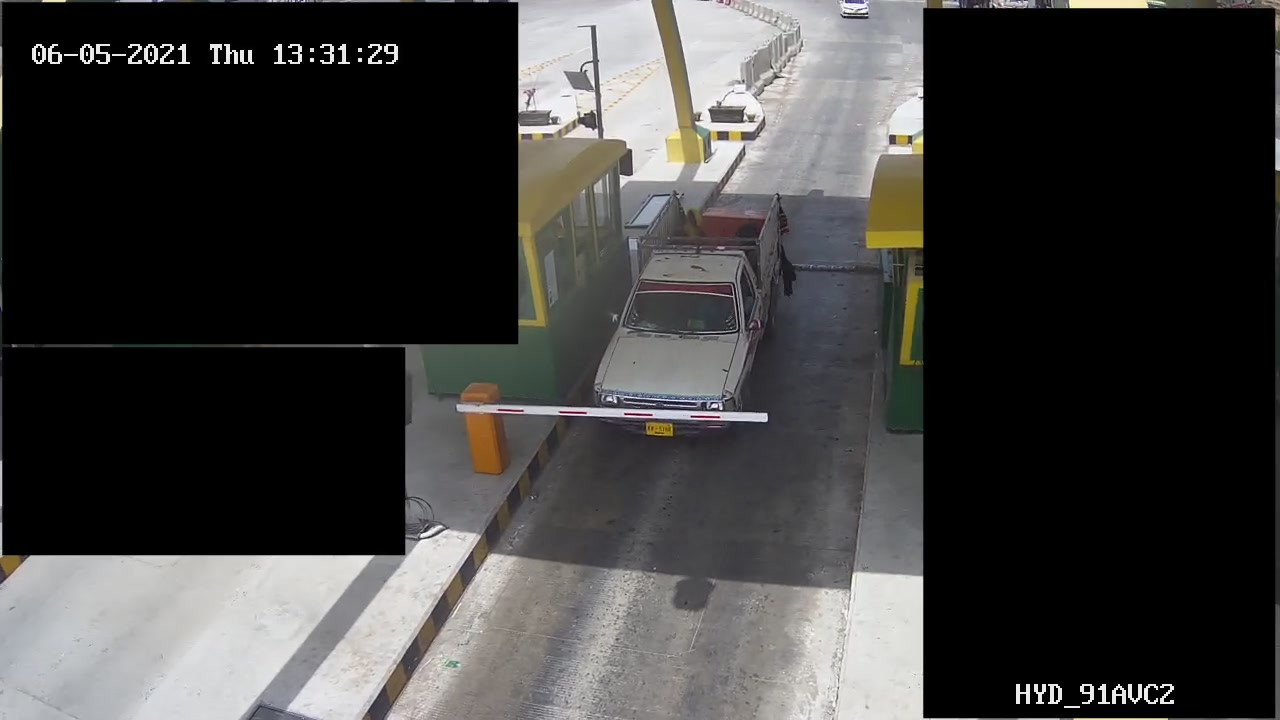F1: (588, 190, 792, 449)
